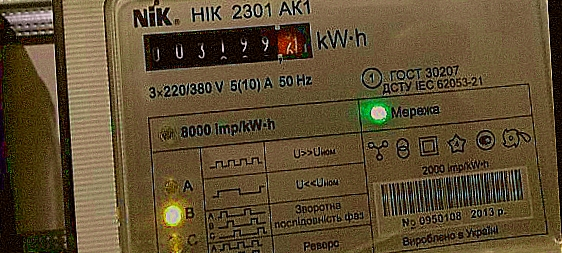0: (172, 41, 184, 61), (149, 43, 160, 62)
1: (216, 35, 226, 54)
3: (194, 40, 206, 60)
6: (282, 40, 293, 54)
9: (237, 33, 248, 54), (259, 34, 270, 52)
screen: (134, 13, 319, 78)
